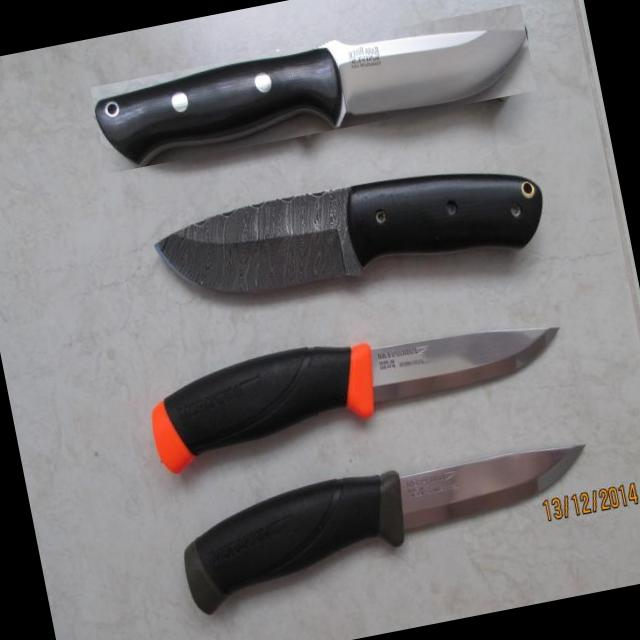Knife: (184, 446, 584, 613), (152, 328, 557, 473), (96, 32, 526, 167), (156, 174, 542, 293)
